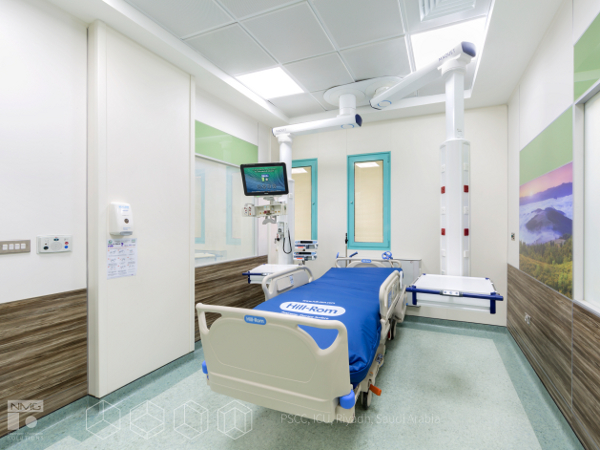bedrail: (379, 270, 407, 338), (262, 266, 313, 301)
countertop: (242, 263, 300, 284)
dispenser: (108, 202, 135, 236)
foot_board: (195, 303, 356, 423)
hospital_bed: (195, 257, 407, 423)
